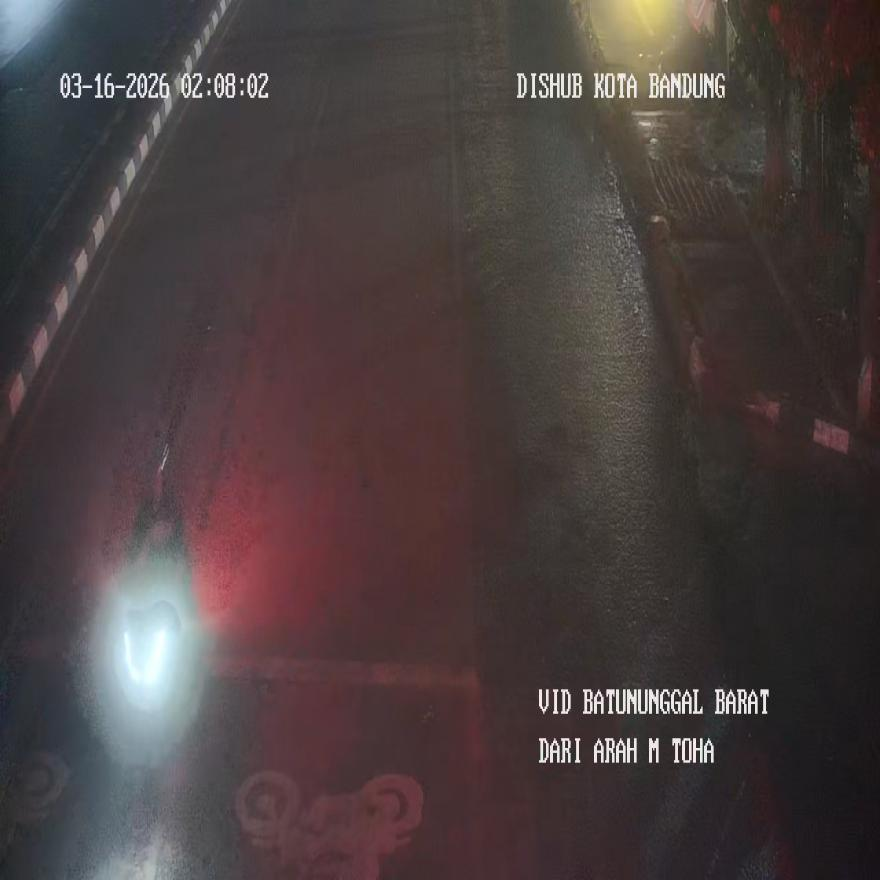Motor: (112, 604, 178, 701)
